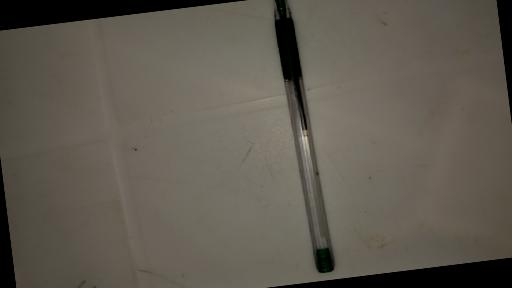pen: (272, 0, 333, 277)
